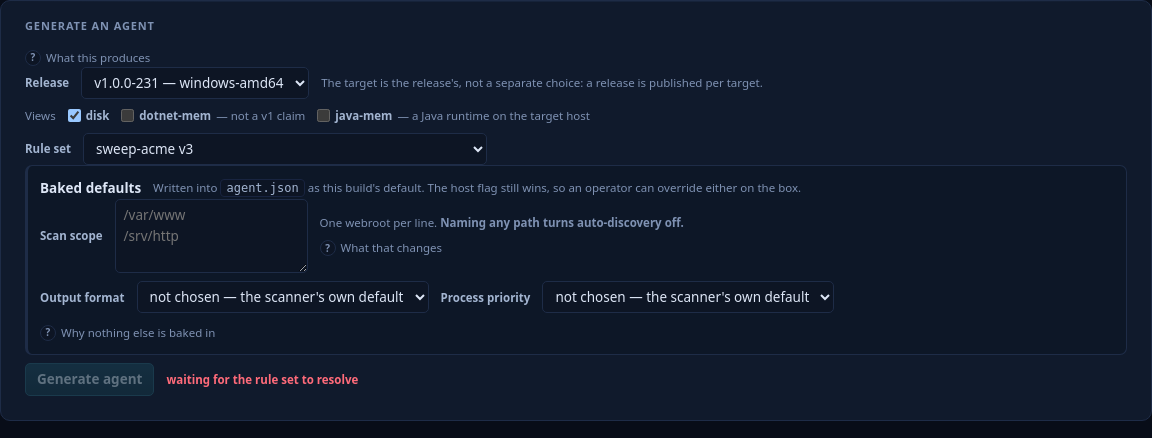
deselecting every view blocks generation and does not read as not applicable
Click the checkbox labelled "disk": click(74, 116) [68,109,81,122]
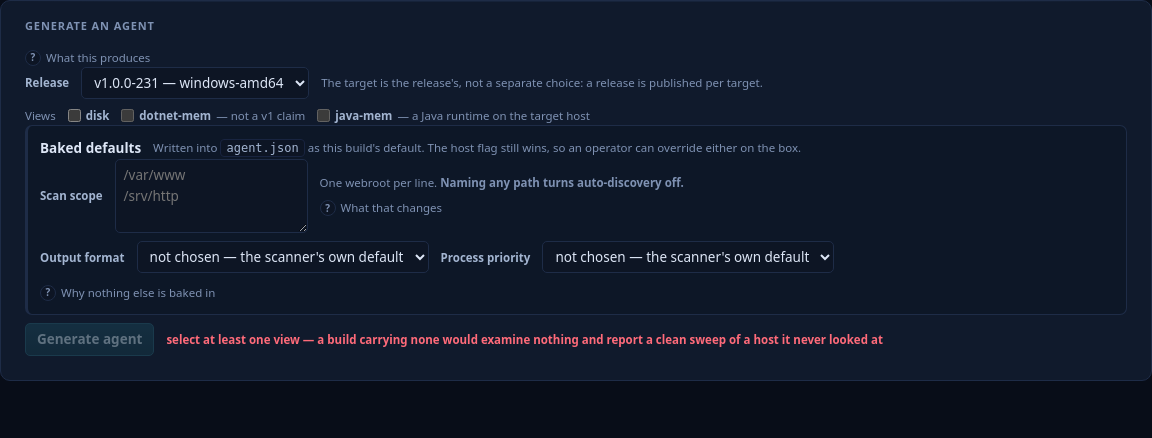
Check: the button "Generate agent" is disabled, box [25,323,154,356]
Check: the text "at least one view" is shown, box [166,332,883,347]
